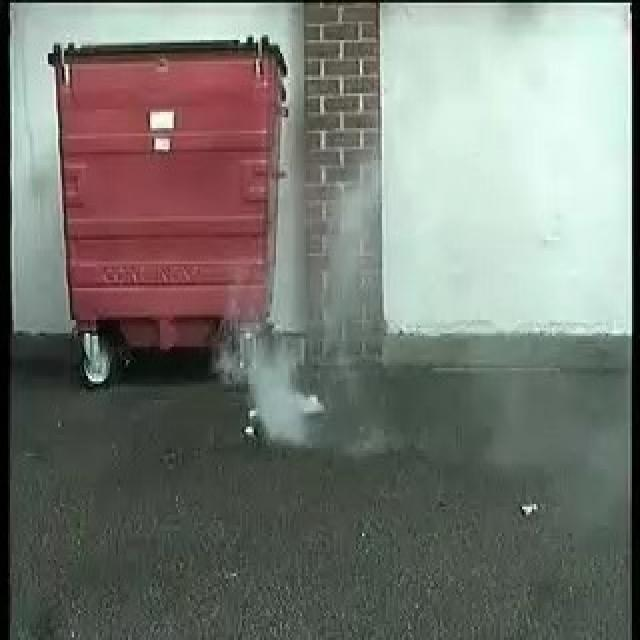smoke: (223, 323, 329, 447)
